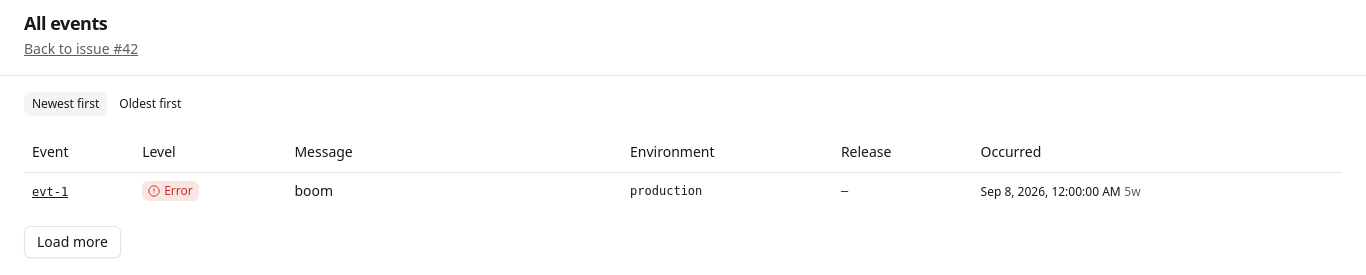
Scenario: IssueEventsPage › appends the next page and sends the previous page's cursor when 'Load more' is clicked
Expected: the link "evt-1" is shown, [32,185,68,199]
What coordinates should you click on to do the following:
click the button "Load more"
I would click on:
 (72, 242)
Its box is [24,226,121,258].
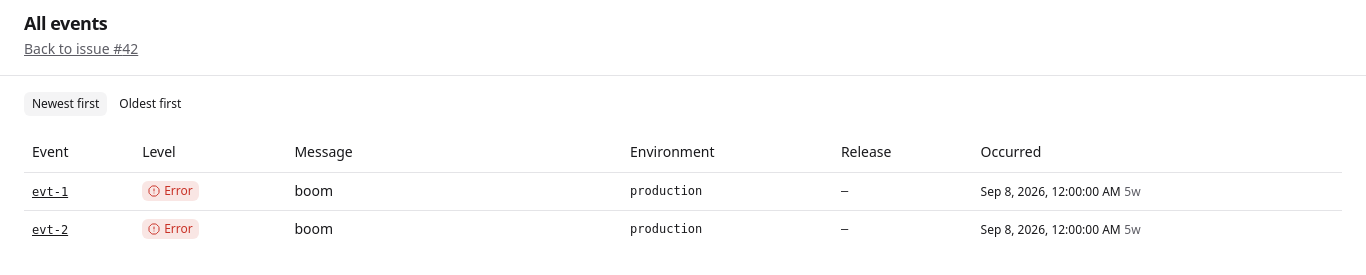
Expected: the link "evt-1" is shown, [32,185,68,199]
Now the link "evt-2" is shown, box [32,223,68,237]
